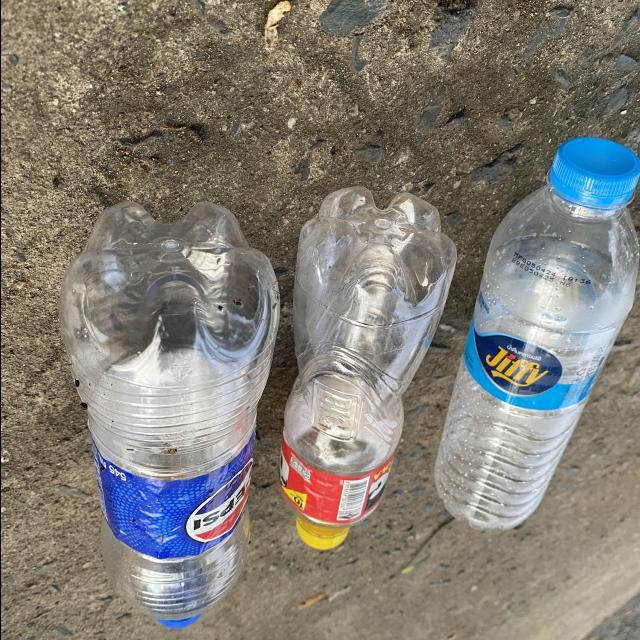plastik: (58, 201, 278, 629), (434, 137, 640, 530), (279, 187, 455, 549)
